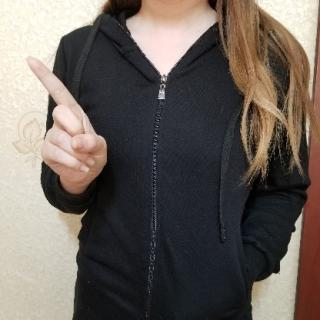BAA: (24, 54, 109, 184)
